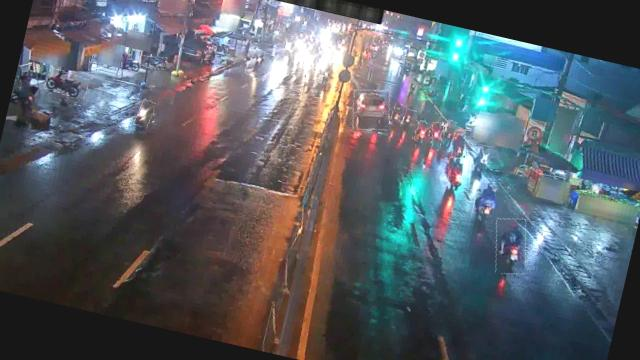Bike: (488, 216, 534, 278), (44, 68, 90, 100), (472, 178, 502, 224), (444, 154, 474, 194), (246, 48, 276, 82), (135, 99, 156, 129), (428, 121, 448, 152), (470, 144, 492, 172), (440, 120, 458, 154), (138, 53, 168, 72), (448, 132, 468, 160), (390, 103, 406, 126), (413, 121, 428, 144), (403, 109, 417, 128)
Car: (348, 84, 394, 134)
